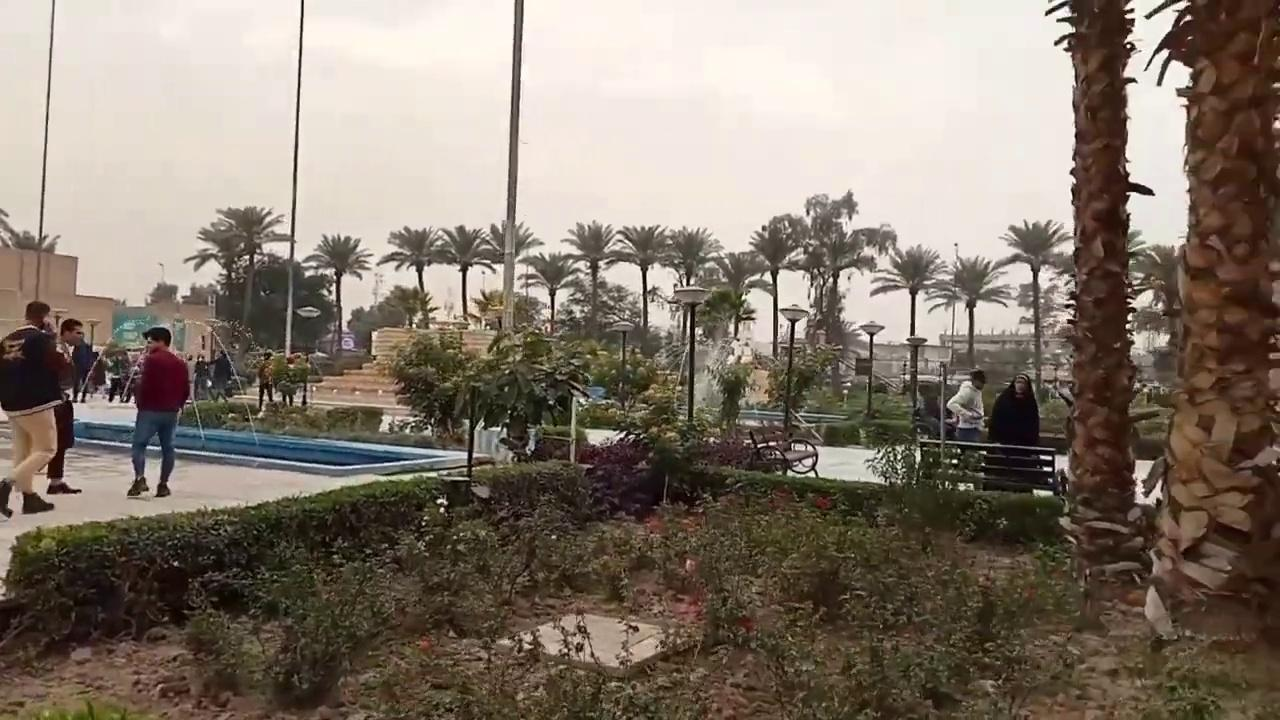fountain: (65, 314, 491, 477), (69, 416, 490, 476)
person: (0, 300, 73, 517), (125, 326, 190, 497), (44, 317, 86, 494), (986, 372, 1040, 492), (945, 369, 986, 453), (210, 349, 231, 402), (256, 351, 275, 409), (278, 355, 297, 406), (296, 352, 311, 405)
tree: (1139, 0, 1279, 645), (1043, 0, 1157, 582), (385, 325, 591, 476), (772, 188, 896, 399), (188, 204, 294, 371), (994, 217, 1072, 390), (697, 249, 772, 427), (868, 242, 947, 409), (385, 328, 473, 443), (182, 220, 248, 355), (301, 231, 372, 353), (375, 224, 448, 328), (748, 218, 801, 360), (559, 218, 619, 339), (607, 222, 672, 329), (945, 253, 1011, 355), (663, 225, 719, 344), (484, 218, 544, 329), (703, 249, 772, 340), (433, 223, 497, 320), (0, 208, 60, 302), (702, 338, 756, 438), (1133, 242, 1182, 351), (517, 250, 580, 334), (925, 266, 966, 364), (663, 224, 717, 286), (698, 285, 757, 340), (382, 283, 434, 328)
